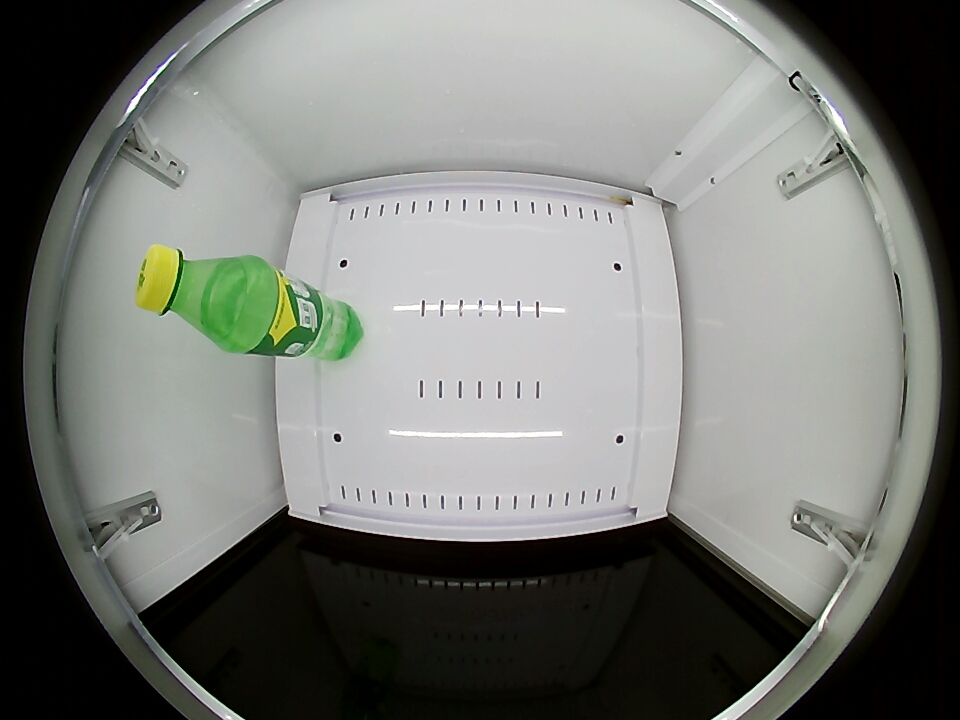xuebi-b: (135, 244, 244, 346)
